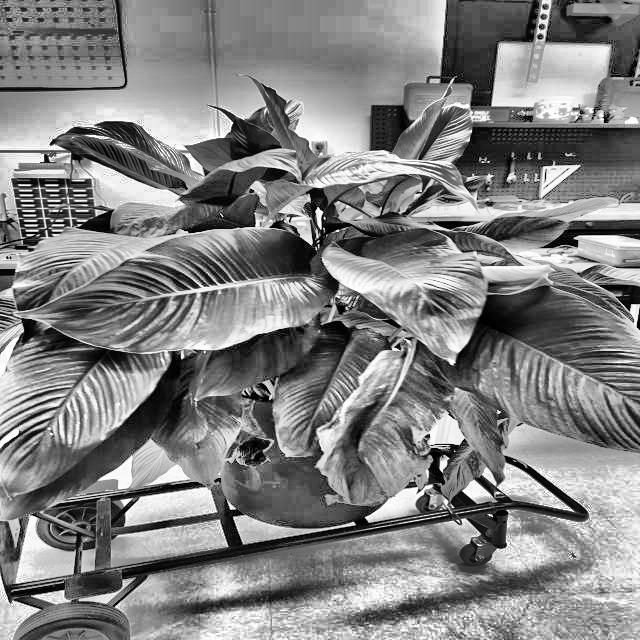plants: (75, 96, 624, 452)
